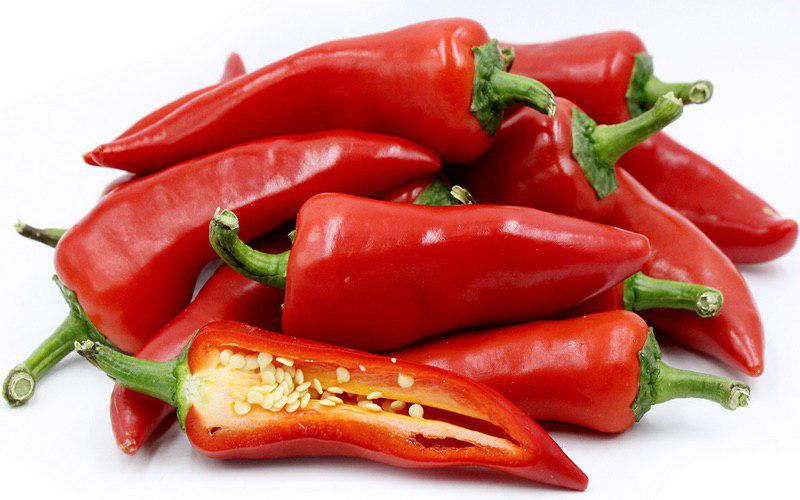lada merah: (55, 127, 412, 359), (149, 306, 584, 496), (93, 16, 513, 186), (289, 185, 654, 356), (620, 183, 764, 374), (454, 314, 677, 420)
